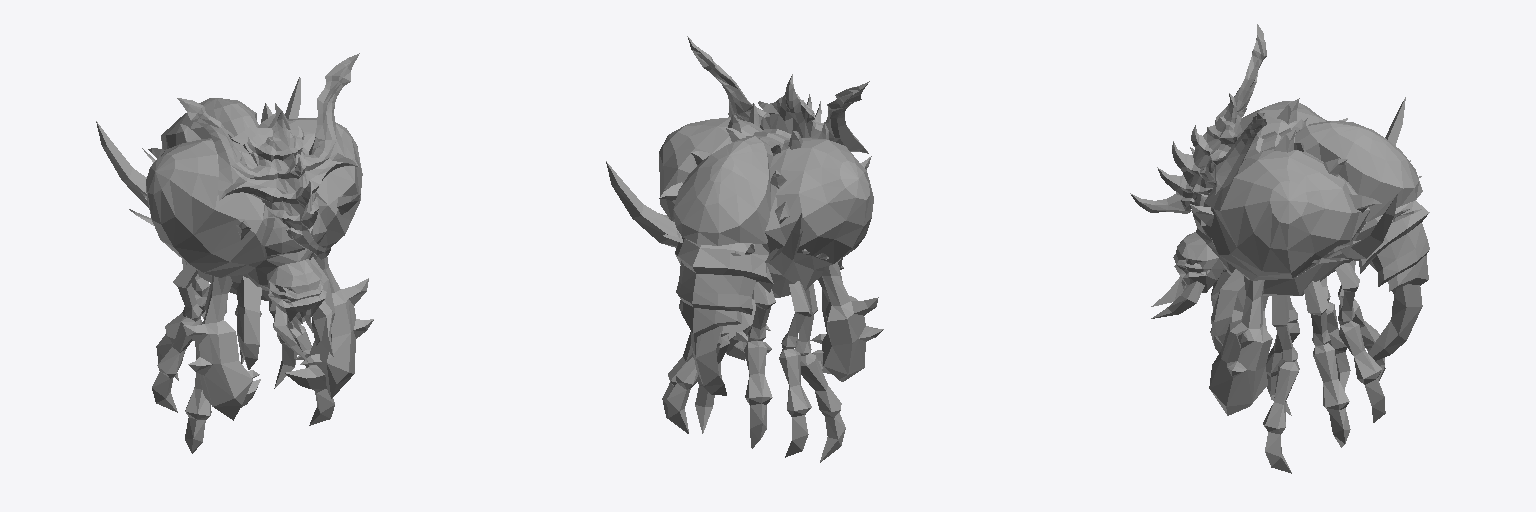
Rendered from Overlord.obj.
3 views of the same model, side by side, from view 1: azimuth 30°, elevation 25°; view 2: azimuth 150°, elevation 25°; view 3: azimuth 270°, elevation 25° (orthographic).
Visible parts, largest first — view 1: SoA_Overlord.m3.002; view 2: SoA_Overlord.m3.002; view 3: SoA_Overlord.m3.002.
Part boxes in pixels (left/top/right/bottom): SoA_Overlord.m3.002: left=96, top=53, right=373, bottom=453; SoA_Overlord.m3.002: left=606, top=36, right=883, bottom=462; SoA_Overlord.m3.002: left=1130, top=24, right=1429, bottom=473.
Bounding box in the file's own units: 1.87 × 3.26 × 2.35.